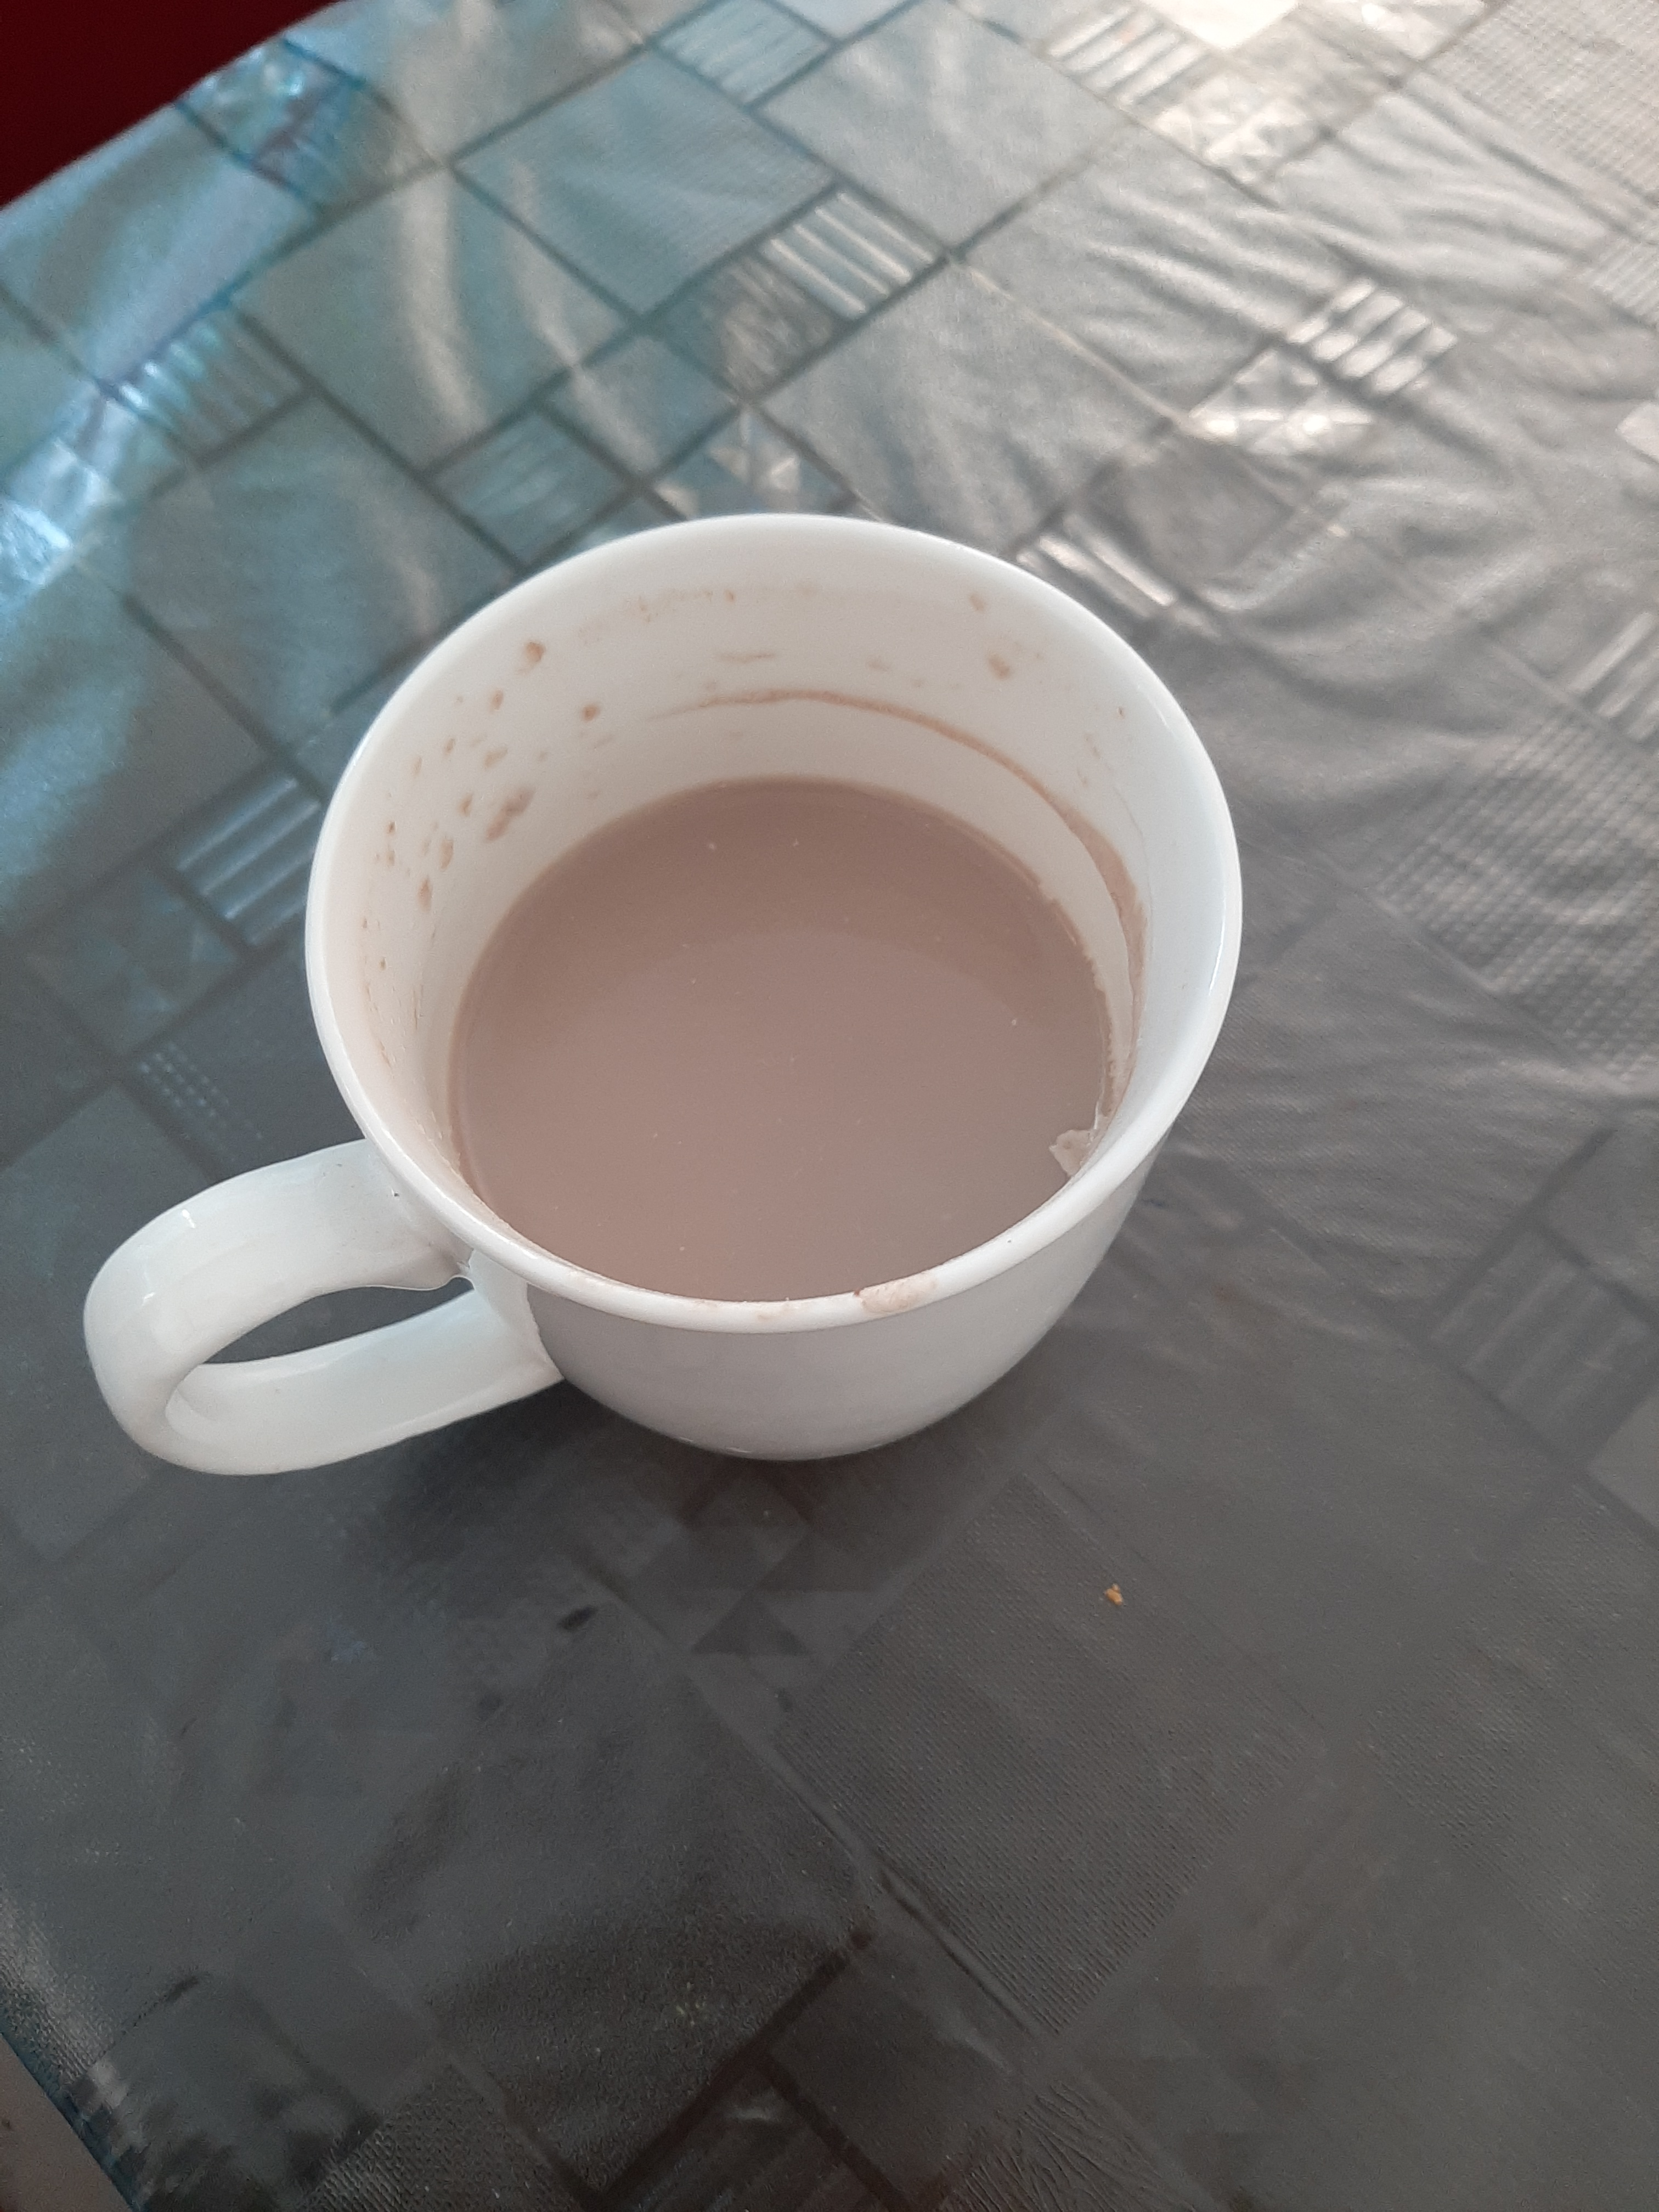food: (441, 660, 1154, 1312)
